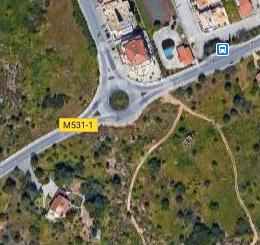pool: (161, 37, 175, 61)
